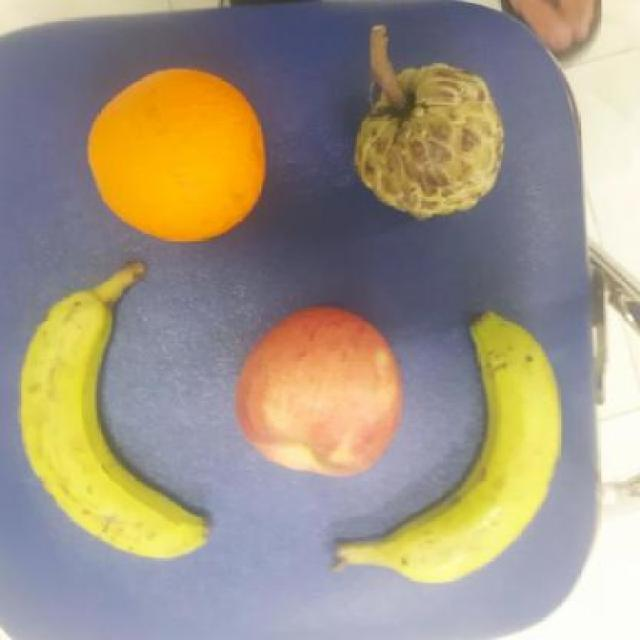apple: (235, 308, 402, 479)
banana: (331, 314, 562, 586), (17, 259, 211, 559)
oren: (87, 68, 267, 245)
sugar apple: (352, 65, 503, 220)
